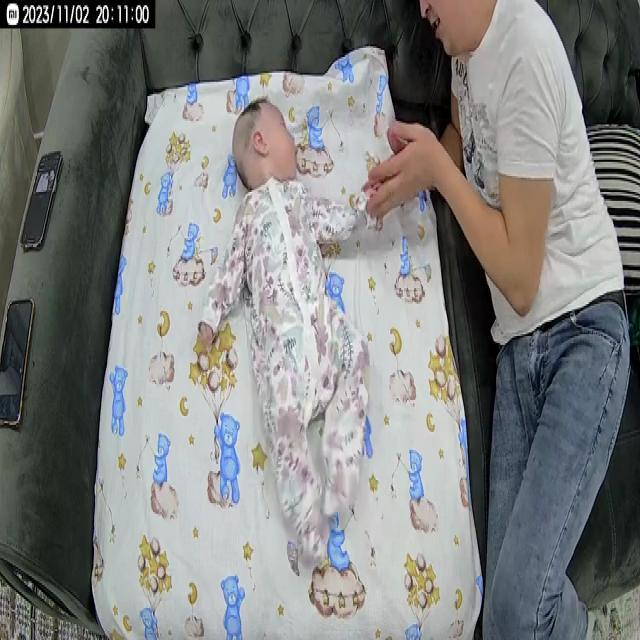baby: (193, 95, 396, 561)
